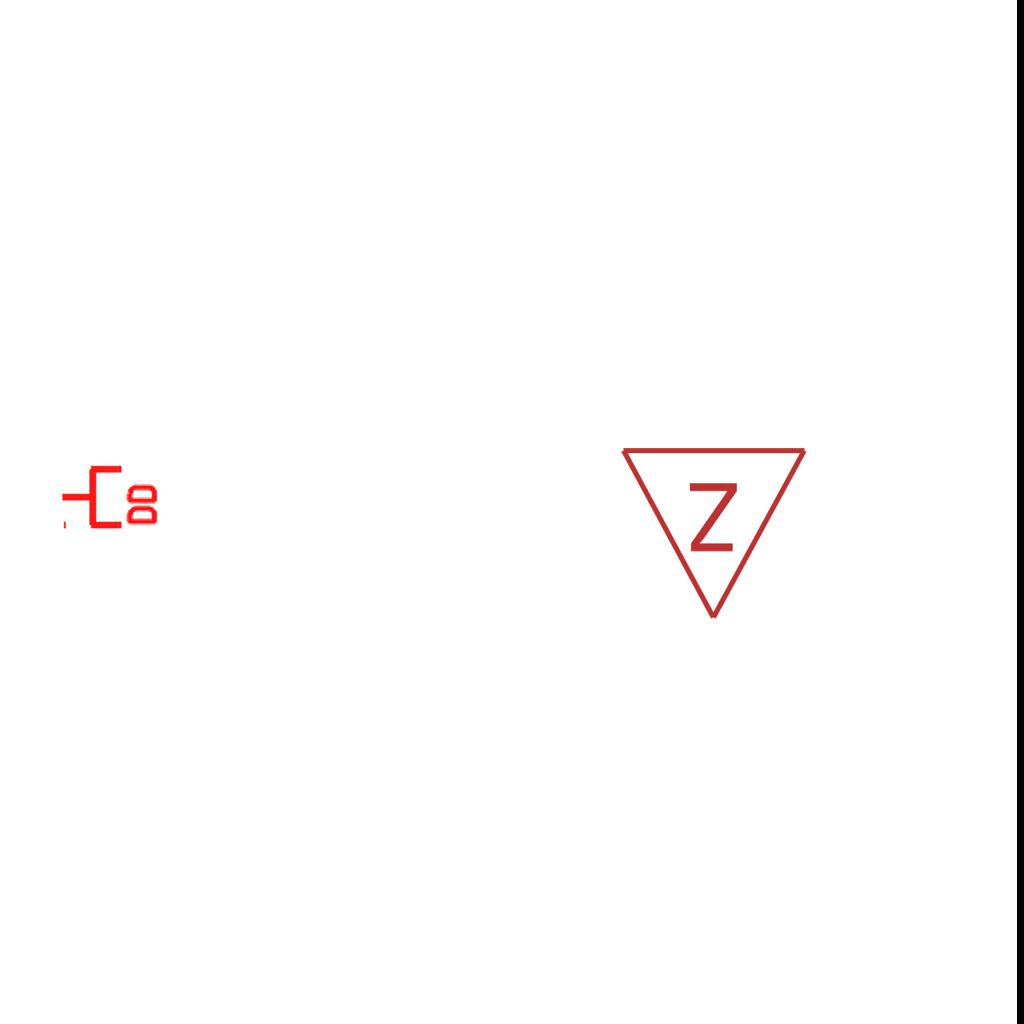Datenanschluss_zweifach: (59, 461, 162, 530)
Zimmersignalleuchte: (618, 433, 814, 633)
